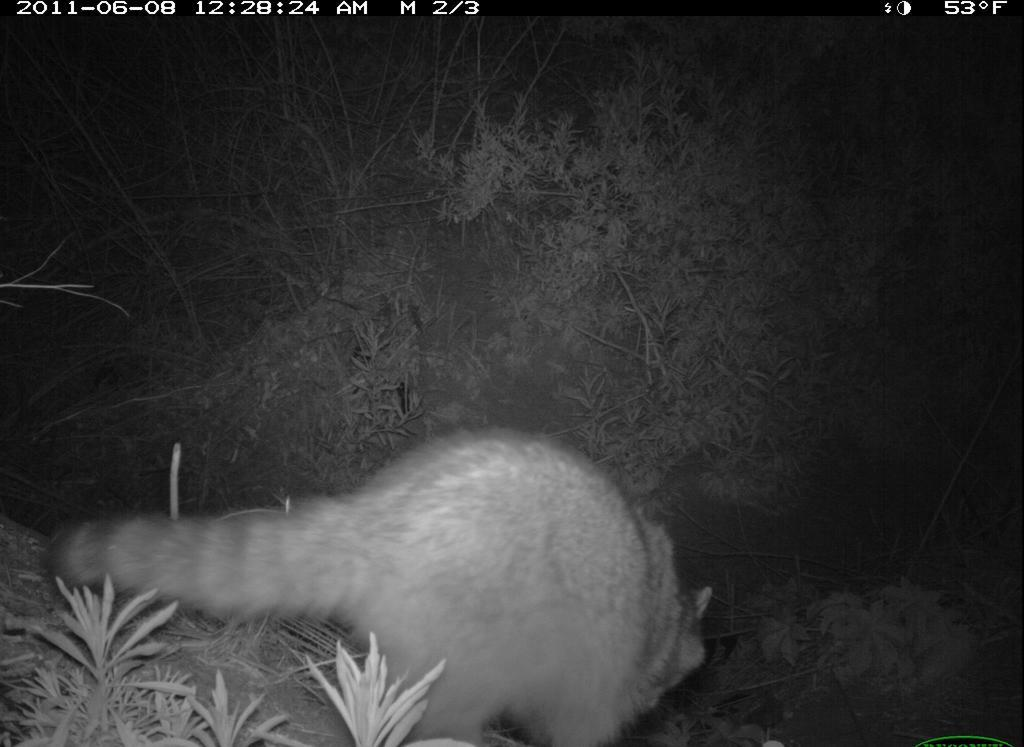raccoon: (29, 414, 757, 745)
